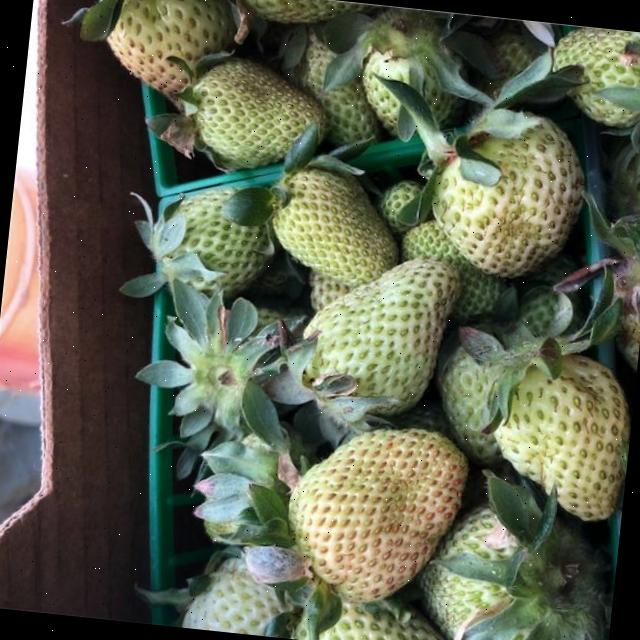strawberry: (280, 415, 470, 611), (424, 102, 590, 284), (294, 245, 460, 422), (479, 338, 638, 522), (409, 498, 605, 640), (186, 55, 331, 174), (264, 164, 398, 284), (89, 0, 239, 105), (160, 184, 276, 296), (545, 23, 640, 127)
